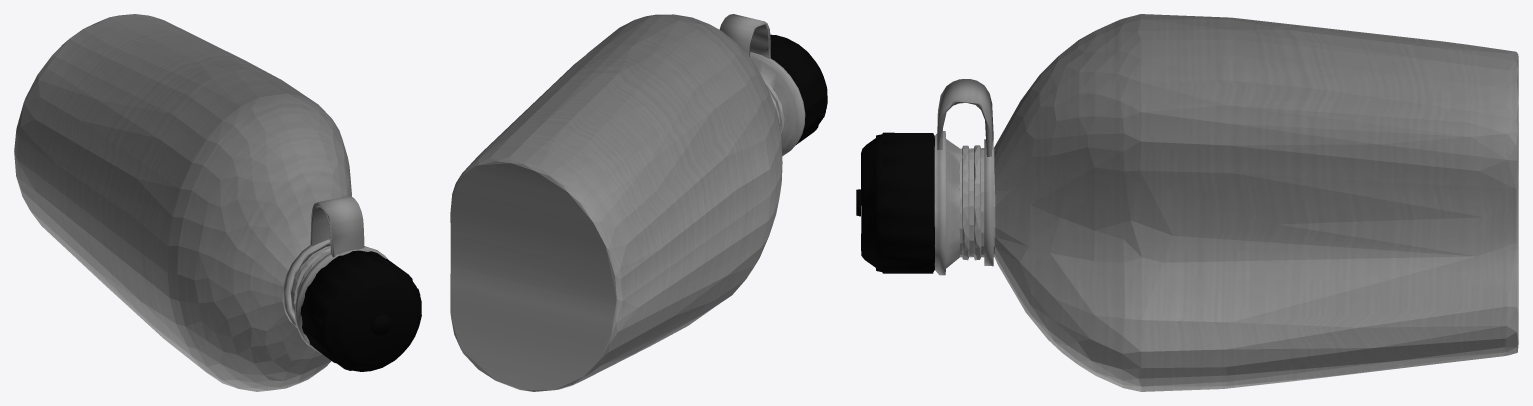
Rendered from AuthenticCanteen.fbx.
3 renders of one model, left to right at view 1: azimuth 30°, elevation 25°; view 2: azimuth 150°, elevation 25°; view 3: azimuth 270°, elevation 25°, orthographic. The views are drawn at different scales.
Parts seen in each view (by area): view 1: Canteen; view 2: Canteen; view 3: Canteen.
Part boxes in pixels (x1,y1,x2,y2): Canteen: [14, 14, 421, 391]; Canteen: [450, 14, 827, 391]; Canteen: [856, 14, 1518, 391].
Bounding box in the file's own units: 0.0581 × 0.0929 × 0.1555.
